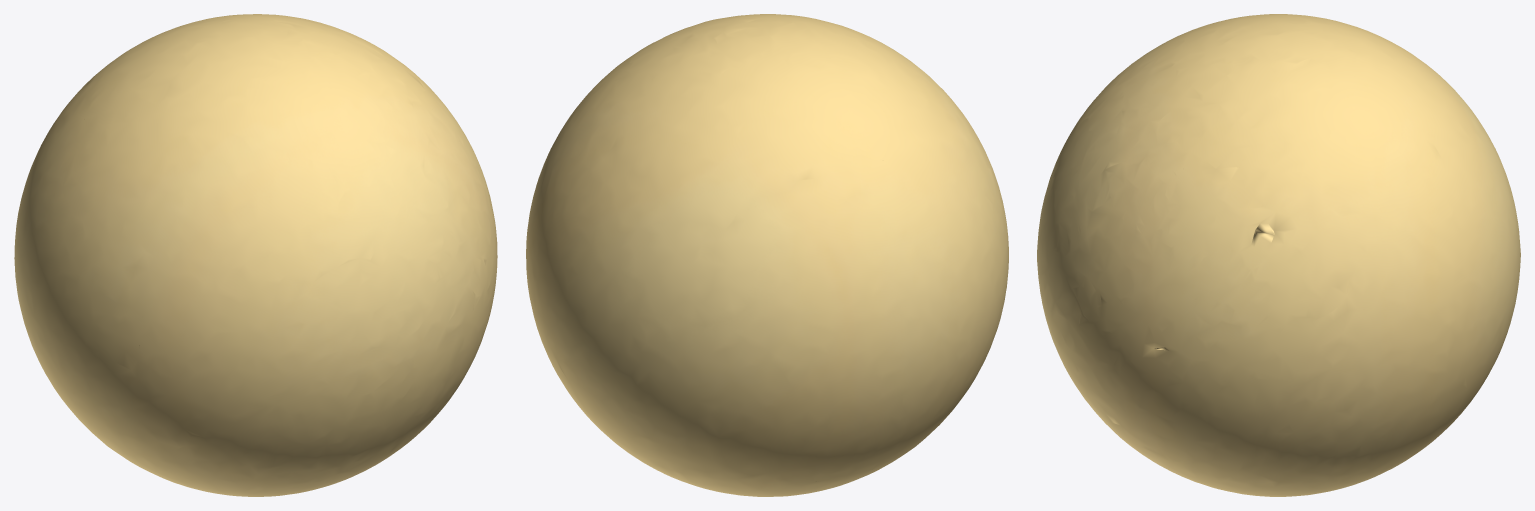
3 renders of one model, left to right at view 1: azimuth 30°, elevation 25°; view 2: azimuth 150°, elevation 25°; view 3: azimuth 270°, elevation 25°, orthographic.
Visible parts, largest first — view 1: Meshy_AI_Cream_Yellow_Squishy__0802213127_image-to-3d-texture; view 2: Meshy_AI_Cream_Yellow_Squishy__0802213127_image-to-3d-texture; view 3: Meshy_AI_Cream_Yellow_Squishy__0802213127_image-to-3d-texture.
Boxes of the visible parts, box(x1,y1,x2,y2) form: Meshy_AI_Cream_Yellow_Squishy__0802213127_image-to-3d-texture: box(14, 14, 497, 496); Meshy_AI_Cream_Yellow_Squishy__0802213127_image-to-3d-texture: box(526, 14, 1008, 496); Meshy_AI_Cream_Yellow_Squishy__0802213127_image-to-3d-texture: box(1037, 14, 1520, 496).
Bounding box in the file's own units: 1.9 × 1.9 × 1.9.
1 material, 1 textured.
